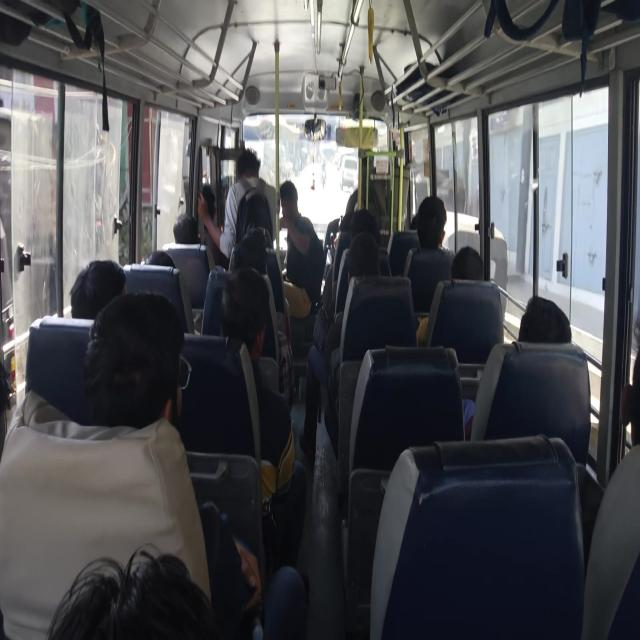person: (218, 265, 302, 574), (583, 333, 639, 632), (43, 546, 219, 637), (482, 297, 576, 454), (82, 288, 184, 431), (326, 230, 391, 404), (418, 246, 488, 352), (216, 147, 270, 267), (404, 197, 455, 316), (278, 181, 324, 311), (69, 259, 125, 323), (171, 209, 215, 277), (517, 294, 572, 345), (414, 194, 446, 250), (344, 230, 380, 278), (451, 244, 485, 282), (350, 207, 378, 241), (142, 250, 178, 268), (410, 213, 419, 230)
